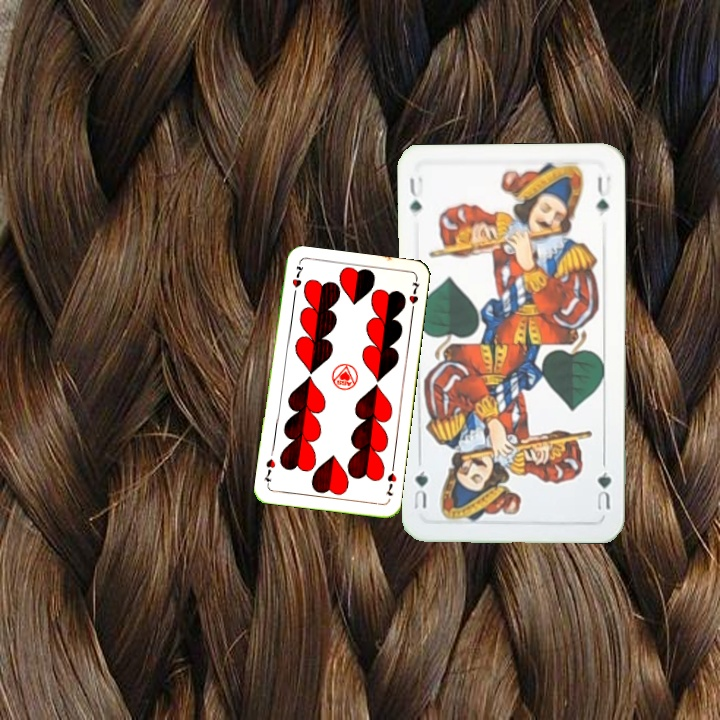GU: (593, 468, 614, 513), (405, 172, 426, 215)
H7: (288, 260, 304, 301), (382, 469, 399, 499)
